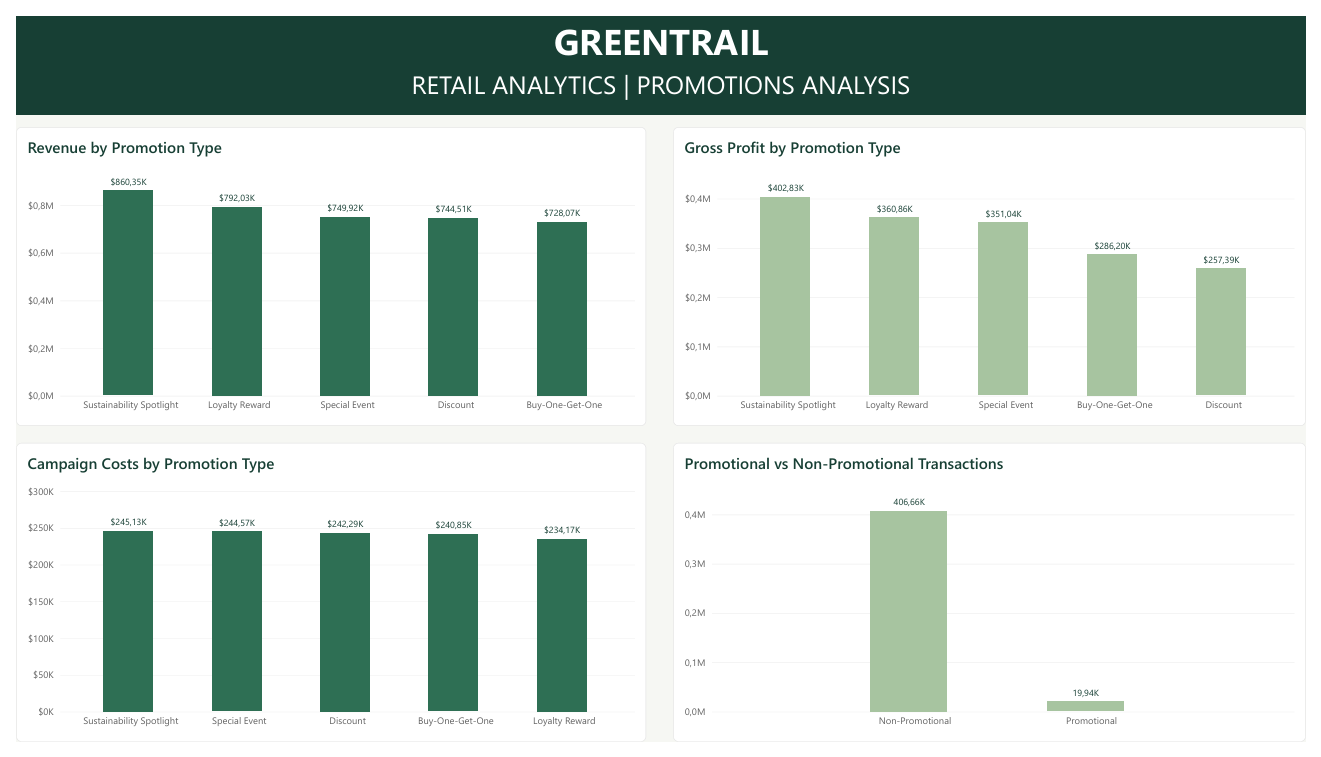

Layout of this report page (visuals, bound fields, positions):
{"tool":"powerbi","page":{"name":"Promotions Analysis","canvas":[1920,1080],"ordinal":2},"visuals":[{"type":"shape","box":[0,0,1920,146.1],"z":0},{"type":"textbox","box":[0,75.6,1920.2,71.3],"z":1000},{"type":"textbox","box":[0,0,1920.2,75.6],"z":2000},{"type":"clusteredColumnChart","title":"Revenue by Promotion Type","fields":{"Category":["promotions.promotion_type"],"Y":["transactions.Total Revenue"]},"box":[0,165,937.5,445],"z":2001},{"type":"clusteredColumnChart","title":"Gross Profit by Promotion Type","fields":{"Category":["promotions.promotion_type"],"Y":["transactions.Gross Profit"]},"box":[977.5,165,942.5,445],"z":2002},{"type":"clusteredColumnChart","title":"Campaign Costs by Promotion Type","fields":{"Category":["promotions.promotion_type"],"Y":["campaign_costs.Total Campaign Cost"]},"box":[0,635,937.5,445],"z":2003},{"type":"clusteredColumnChart","title":"Promotional vs Non-Promotional Transactions","fields":{"Category":["transactions.Transaction Type"],"Y":["transactions.Total Transactions"]},"box":[977.5,635,942.5,445],"z":2004}]}

Visuals, with their boxes in screenshot pixels (x1, y1, x2, y2), scaled from the page's 1920x1080 canvas onto the 1321x757 screenshot:
shape: box=[0, 0, 1320, 102]
textbox: box=[0, 53, 1320, 103]
textbox: box=[0, 0, 1320, 53]
"Revenue by Promotion Type" clusteredColumnChart: box=[0, 116, 645, 428]
"Gross Profit by Promotion Type" clusteredColumnChart: box=[673, 116, 1320, 428]
"Campaign Costs by Promotion Type" clusteredColumnChart: box=[0, 445, 645, 756]
"Promotional vs Non-Promotional Transactions" clusteredColumnChart: box=[673, 445, 1320, 756]
